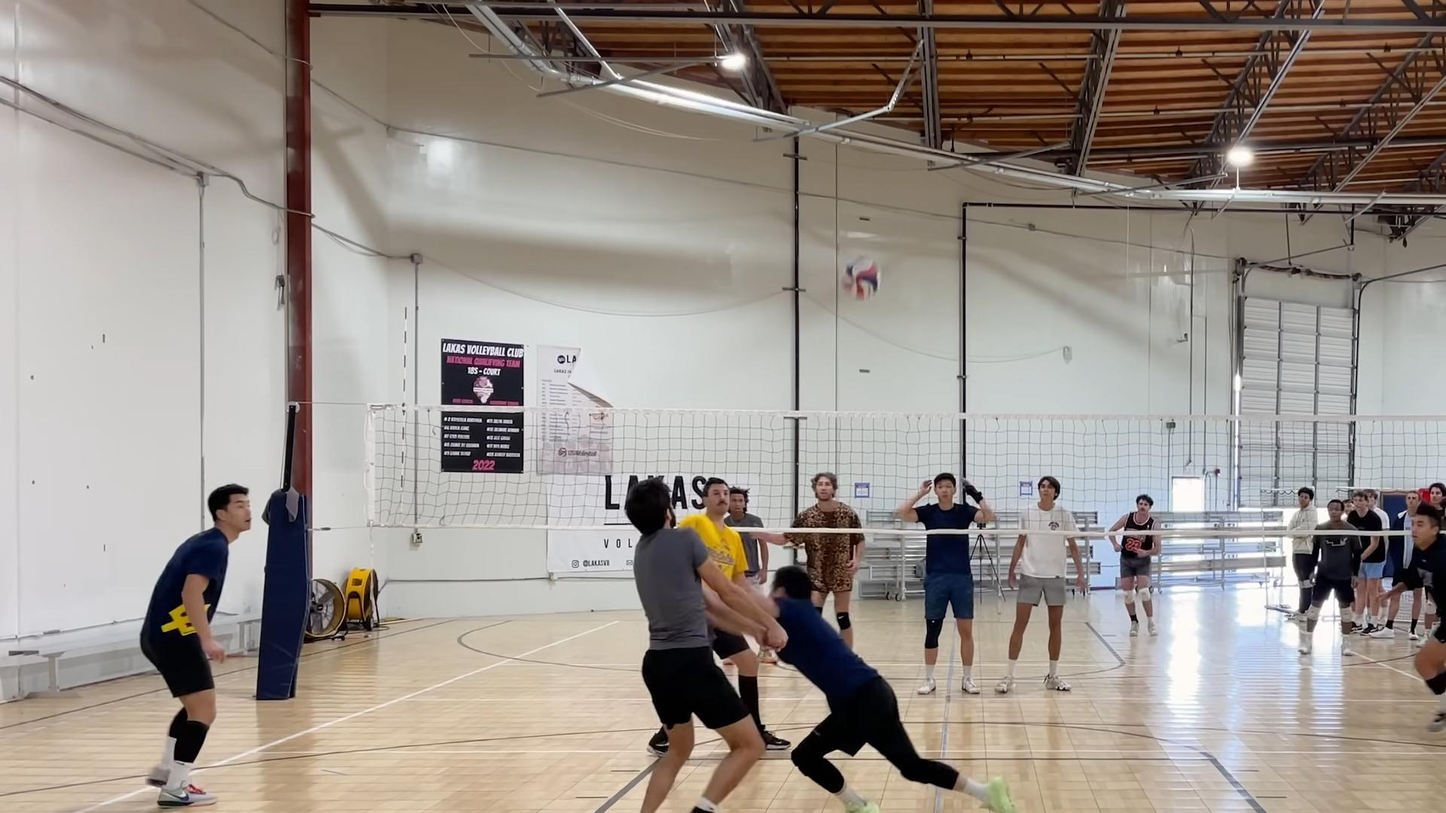Player: (140, 484, 251, 807), (996, 476, 1087, 693), (917, 534, 978, 694), (712, 630, 790, 750), (787, 532, 865, 646), (1299, 533, 1362, 656), (1109, 494, 1160, 636), (724, 486, 786, 592), (1392, 506, 1445, 606)
Receive: (695, 552, 1003, 813), (613, 473, 785, 813)
ball: (841, 253, 884, 299)
